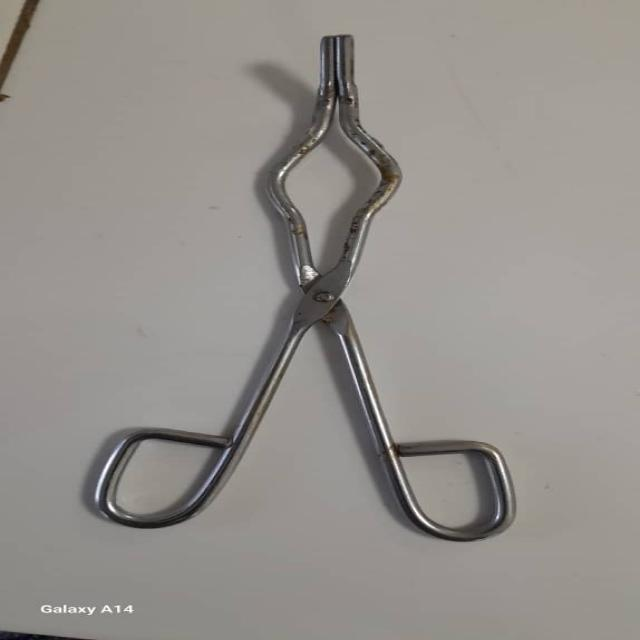Tongue: (74, 21, 538, 544)
